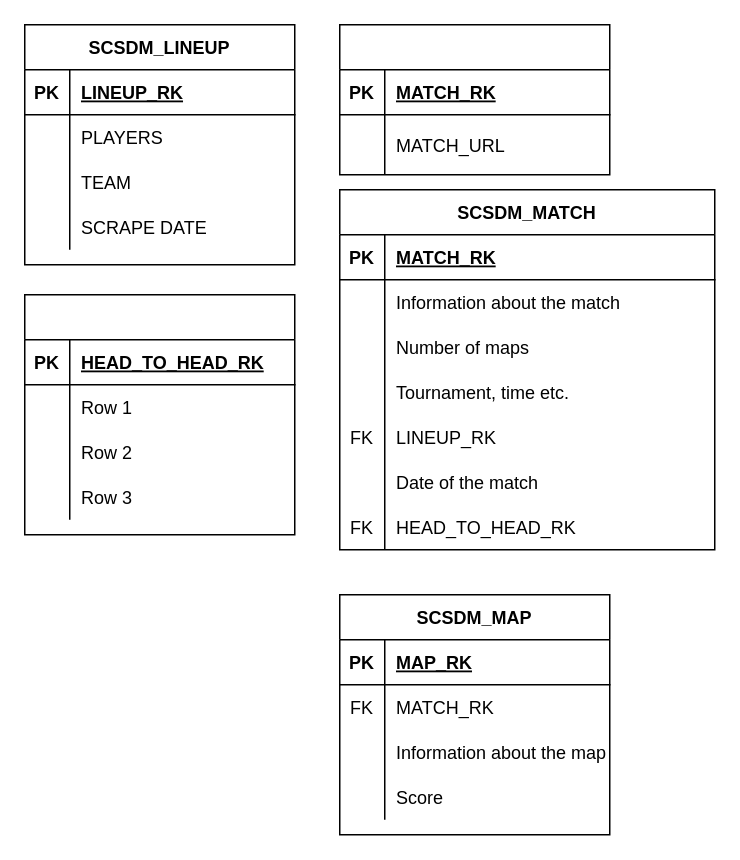
This 740x860 diagram has some shape labels left out. The shapes that lost their labels are listed below. From the top down, each one's box as (x1, y1, x2, y2) in pixels, then its label:
(338, 23, 610, 175): SCSDM_RK_MAP
(23, 293, 295, 535): SCSDM_HEAD_TO_HEAD
